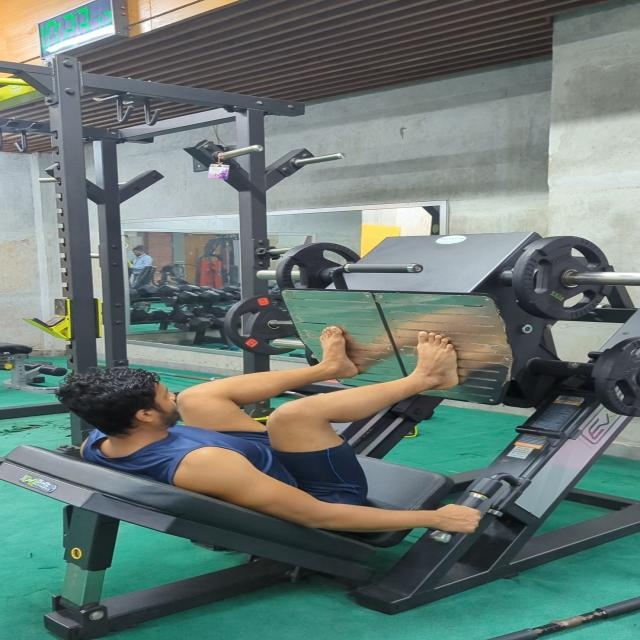Normal_LegPress: (44, 312, 504, 542)
